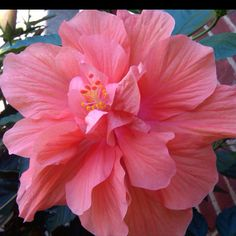Hibiscus: (5, 9, 236, 236)
